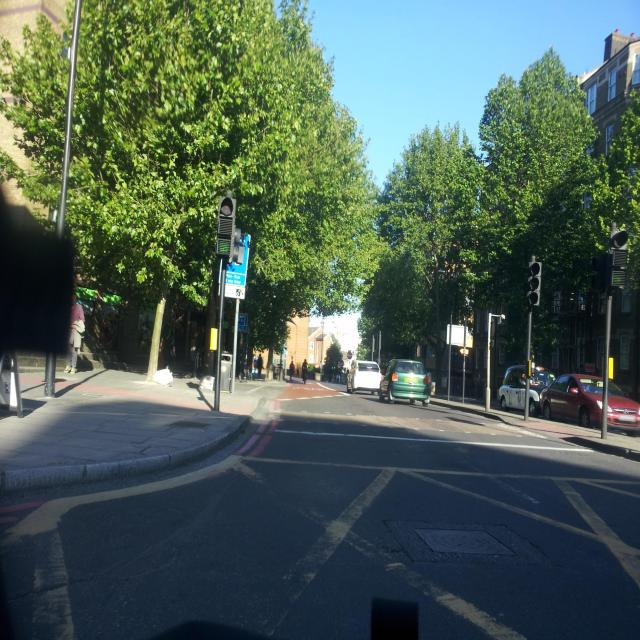Good: (412, 522, 516, 560)
